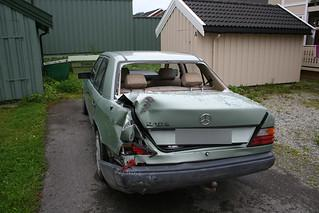Taillight-Damage: (113, 129, 161, 173)
boot-dent: (117, 85, 217, 140)
